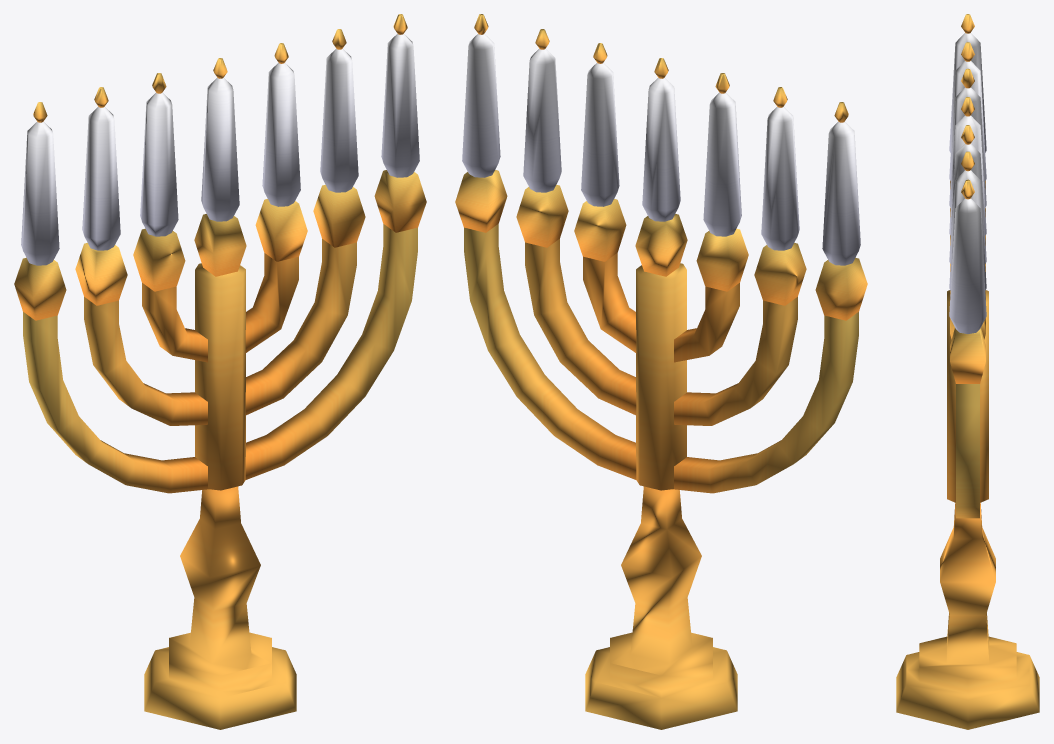
Rendered from hanukkah-menorah-candles_lev3.glb.
The picture shows the model from 3 angles, left to right: view 1: azimuth 30°, elevation 25°; view 2: azimuth 150°, elevation 25°; view 3: azimuth 270°, elevation 25°; orthographic projection. The views are drawn at different scales.
Parts seen in each view (by area): view 1: hanukkah-menorah-candles_lev3; view 2: hanukkah-menorah-candles_lev3; view 3: hanukkah-menorah-candles_lev3.
Part boxes in pixels (x1,y1,x2,y2): hanukkah-menorah-candles_lev3: [14, 14, 426, 729]; hanukkah-menorah-candles_lev3: [455, 14, 867, 729]; hanukkah-menorah-candles_lev3: [896, 14, 1039, 729].
Size of the model in its own units: 0.566 by 0.8684 by 0.189.
Materials: 1 (1 with a texture image).
